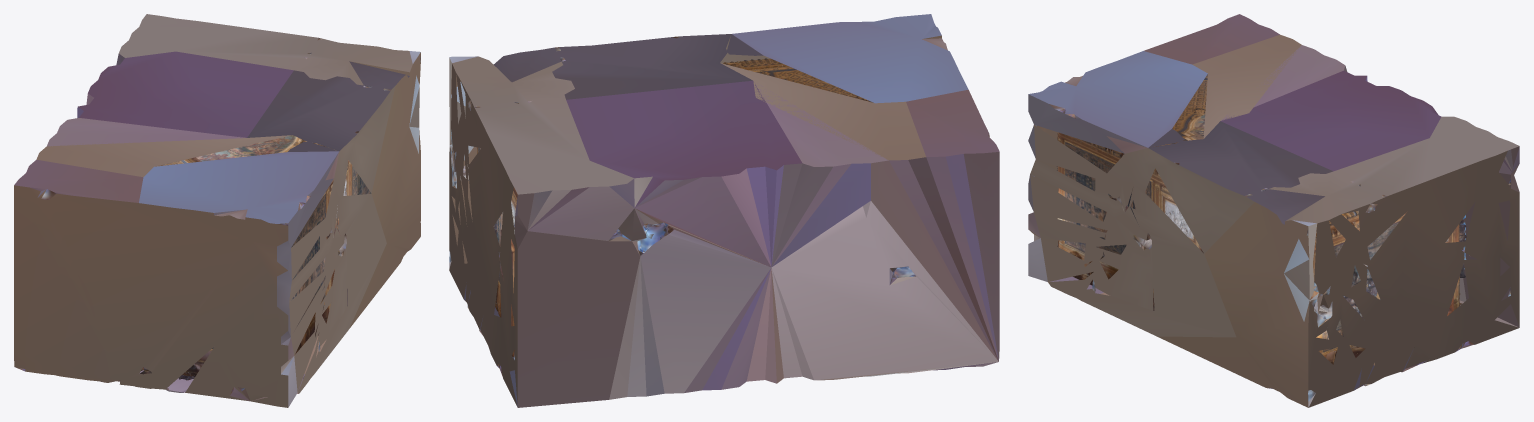
The model's file is the_great_drawing_room.glb.
3 views of the same model, side by side, from view 1: azimuth 30°, elevation 25°; view 2: azimuth 150°, elevation 25°; view 3: azimuth 270°, elevation 25° (orthographic). The views are drawn at different scales.
Bounding box in the file's own units: 14.29 × 5.71 × 13.99.
1 material, 1 textured.
